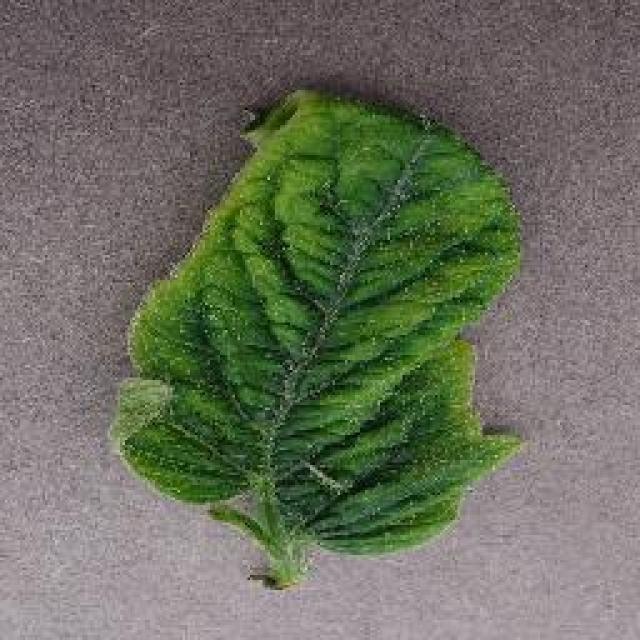Tom_Yellow_Leaf_Curl_Virus: (164, 108, 500, 528)
